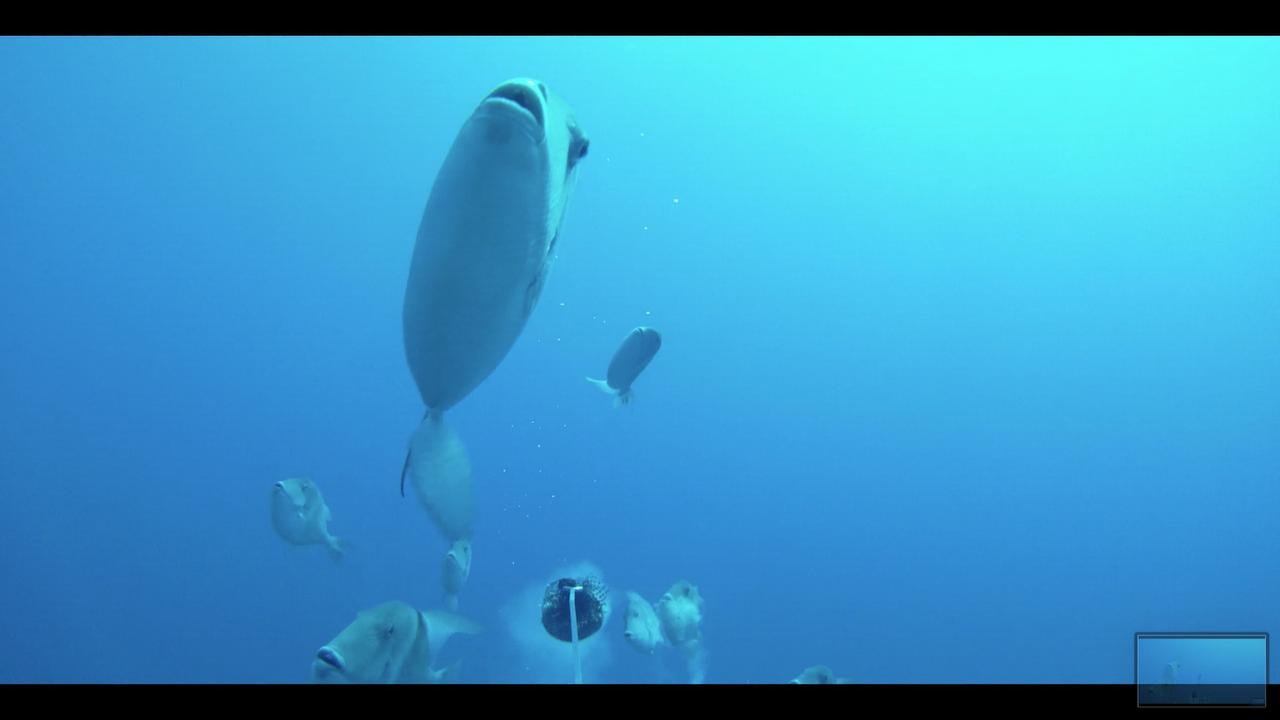balistes: (394, 70, 596, 503), (318, 595, 491, 683), (586, 312, 670, 428), (258, 470, 353, 566), (616, 581, 675, 652)
